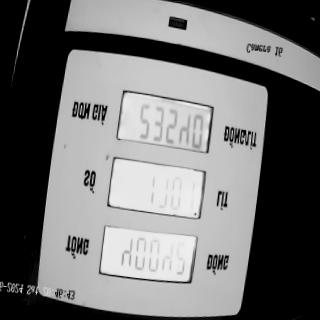screen: (96, 88, 218, 290)
